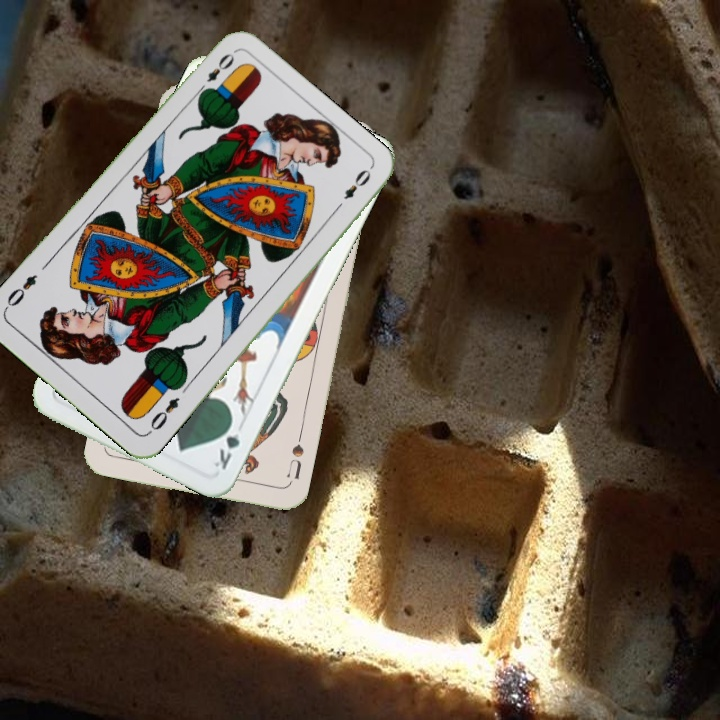EO: (193, 48, 237, 98), (143, 393, 182, 437)
GK: (210, 415, 245, 473)
SU: (282, 440, 307, 482)
